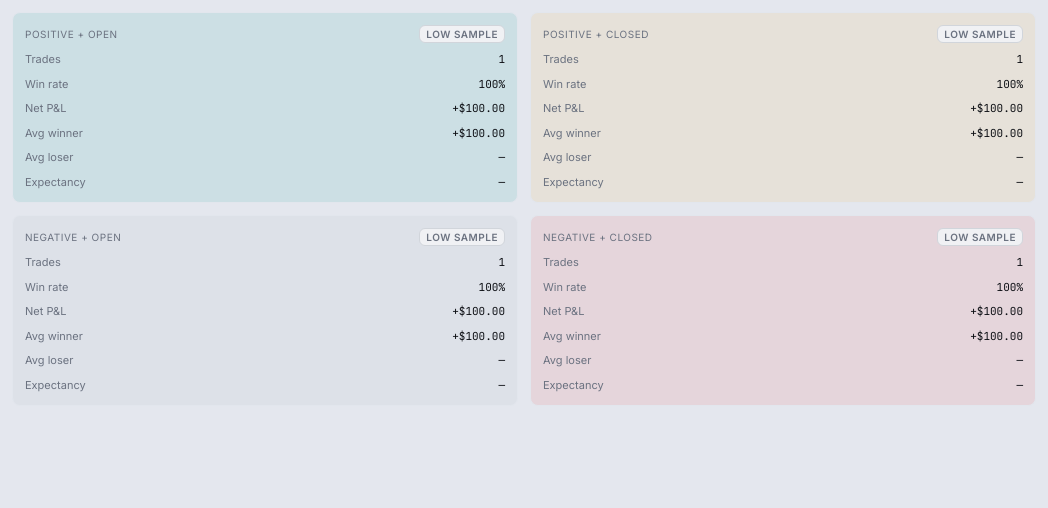
MacdStateGrid — open/close state machine (characterization) › open from clean: clicking a card opens its row panel and mounts its table
The width and height of the screenshot is (1048, 508).
Click the button "Positive + Open".
click(71, 34)  # box [12,12,518,203]
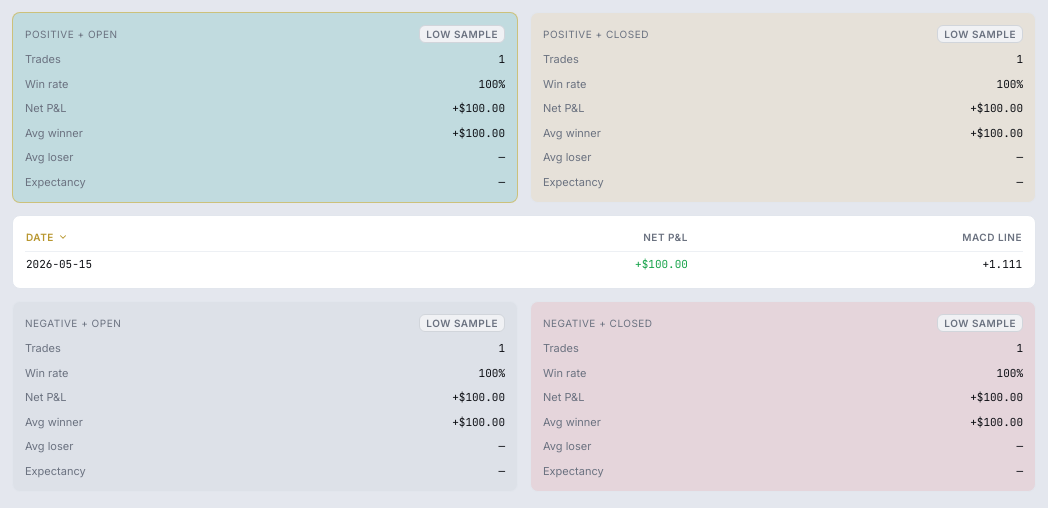
Expected: the text "+1.111" is shown, [689,252,1023,276]
